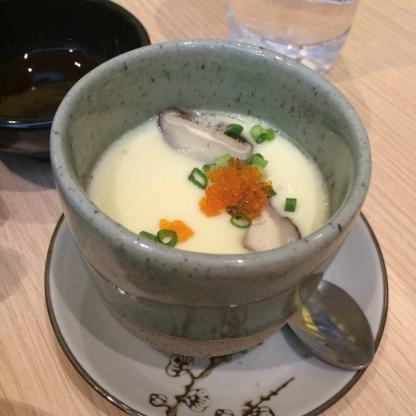Kaithoon: (76, 85, 346, 289)
